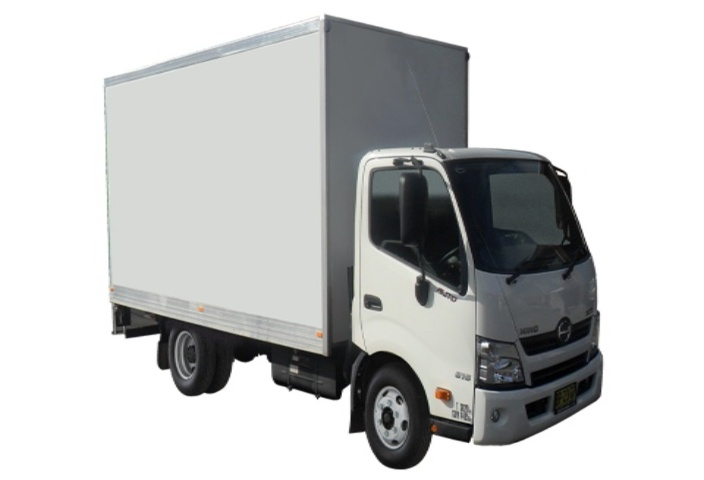truck: (64, 18, 616, 453)
